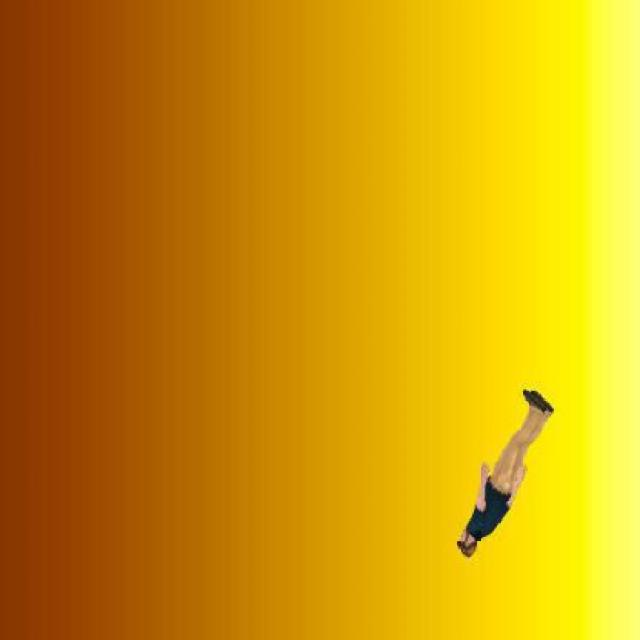Person: (452, 384, 554, 565)
